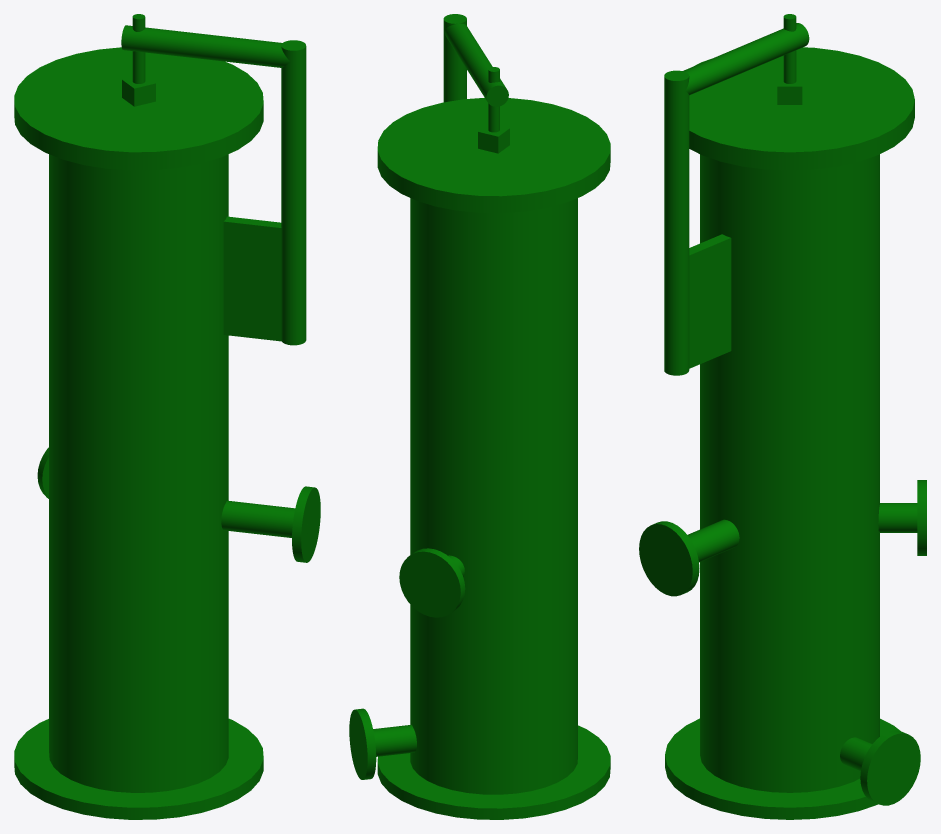
Rendered from Image-1711348185425-2281130288720_62-CB50B.fbx.
3 views of the same model, side by side, from view 1: azimuth 30°, elevation 25°; view 2: azimuth 150°, elevation 25°; view 3: azimuth 270°, elevation 25° (orthographic). The views are drawn at different scales.
Visible parts, largest first — view 1: CYLINDER 2 of SUBEQUIPMENT /62-CB50B/PRIM, CYLINDER 3 of SUBEQUIPMENT /62-CB50B/PRIM, CYLINDER 1 of SUBEQUIPMENT /62-CB50B/PRIM, CYLINDER 6 of SUBEQUIPMENT /62-CB50B/PRIM, BOX 2 of SUBEQUIPMENT /62-CB50B/PRIM, CYLINDER 4 of SUBEQUIPMENT /62-CB50B/PRIM, /62-CB50B/N2, BOX 1 of SUBEQUIPMENT /62-CB50B/PRIM, CYLINDER 5 of SUBEQUIPMENT /62-CB50B/PRIM; view 2: CYLINDER 2 of SUBEQUIPMENT /62-CB50B/PRIM, CYLINDER 3 of SUBEQUIPMENT /62-CB50B/PRIM, CYLINDER 1 of SUBEQUIPMENT /62-CB50B/PRIM, /62-CB50B/N1, /62-CB50B/N3, CYLINDER 4 of SUBEQUIPMENT /62-CB50B/PRIM, CYLINDER 6 of SUBEQUIPMENT /62-CB50B/PRIM, BOX 1 of SUBEQUIPMENT /62-CB50B/PRIM, CYLINDER 5 of SUBEQUIPMENT /62-CB50B/PRIM; view 3: CYLINDER 2 of SUBEQUIPMENT /62-CB50B/PRIM, CYLINDER 3 of SUBEQUIPMENT /62-CB50B/PRIM, CYLINDER 6 of SUBEQUIPMENT /62-CB50B/PRIM, CYLINDER 1 of SUBEQUIPMENT /62-CB50B/PRIM, BOX 2 of SUBEQUIPMENT /62-CB50B/PRIM, /62-CB50B/N2, /62-CB50B/N3, CYLINDER 4 of SUBEQUIPMENT /62-CB50B/PRIM, /62-CB50B/N1, BOX 1 of SUBEQUIPMENT /62-CB50B/PRIM, CYLINDER 5 of SUBEQUIPMENT /62-CB50B/PRIM.
Boxes of the visible parts, bbox=[...] form: CYLINDER 2 of SUBEQUIPMENT /62-CB50B/PRIM: bbox=[49, 154, 228, 792]; CYLINDER 3 of SUBEQUIPMENT /62-CB50B/PRIM: bbox=[14, 47, 263, 170]; CYLINDER 1 of SUBEQUIPMENT /62-CB50B/PRIM: bbox=[14, 718, 263, 819]; CYLINDER 6 of SUBEQUIPMENT /62-CB50B/PRIM: bbox=[281, 40, 306, 345]; BOX 2 of SUBEQUIPMENT /62-CB50B/PRIM: bbox=[223, 216, 281, 341]; CYLINDER 4 of SUBEQUIPMENT /62-CB50B/PRIM: bbox=[121, 25, 290, 67]; /62-CB50B/N2: bbox=[221, 486, 320, 562]; BOX 1 of SUBEQUIPMENT /62-CB50B/PRIM: bbox=[122, 76, 155, 106]; CYLINDER 5 of SUBEQUIPMENT /62-CB50B/PRIM: bbox=[132, 14, 145, 83]; CYLINDER 2 of SUBEQUIPMENT /62-CB50B/PRIM: bbox=[410, 198, 577, 794]; CYLINDER 3 of SUBEQUIPMENT /62-CB50B/PRIM: bbox=[377, 97, 610, 212]; CYLINDER 1 of SUBEQUIPMENT /62-CB50B/PRIM: bbox=[377, 725, 610, 819]; /62-CB50B/N1: bbox=[399, 548, 465, 617]; /62-CB50B/N3: bbox=[349, 708, 416, 779]; CYLINDER 4 of SUBEQUIPMENT /62-CB50B/PRIM: bbox=[444, 23, 508, 106]; CYLINDER 6 of SUBEQUIPMENT /62-CB50B/PRIM: bbox=[443, 14, 466, 102]; BOX 1 of SUBEQUIPMENT /62-CB50B/PRIM: bbox=[478, 124, 509, 153]; CYLINDER 5 of SUBEQUIPMENT /62-CB50B/PRIM: bbox=[488, 67, 499, 132]; CYLINDER 2 of SUBEQUIPMENT /62-CB50B/PRIM: bbox=[700, 154, 879, 792]; CYLINDER 3 of SUBEQUIPMENT /62-CB50B/PRIM: bbox=[689, 47, 914, 170]; CYLINDER 6 of SUBEQUIPMENT /62-CB50B/PRIM: bbox=[664, 70, 689, 375]; CYLINDER 1 of SUBEQUIPMENT /62-CB50B/PRIM: bbox=[665, 718, 900, 819]; BOX 2 of SUBEQUIPMENT /62-CB50B/PRIM: bbox=[689, 234, 731, 368]; /62-CB50B/N2: bbox=[639, 519, 739, 596]; /62-CB50B/N3: bbox=[840, 730, 920, 805]; CYLINDER 4 of SUBEQUIPMENT /62-CB50B/PRIM: bbox=[682, 23, 809, 95]; /62-CB50B/N1: bbox=[878, 480, 926, 555]; BOX 1 of SUBEQUIPMENT /62-CB50B/PRIM: bbox=[777, 76, 802, 104]; CYLINDER 5 of SUBEQUIPMENT /62-CB50B/PRIM: bbox=[783, 14, 796, 83].
Size of the model in its own units: 0.5577 by 0.5757 by 1.66.
